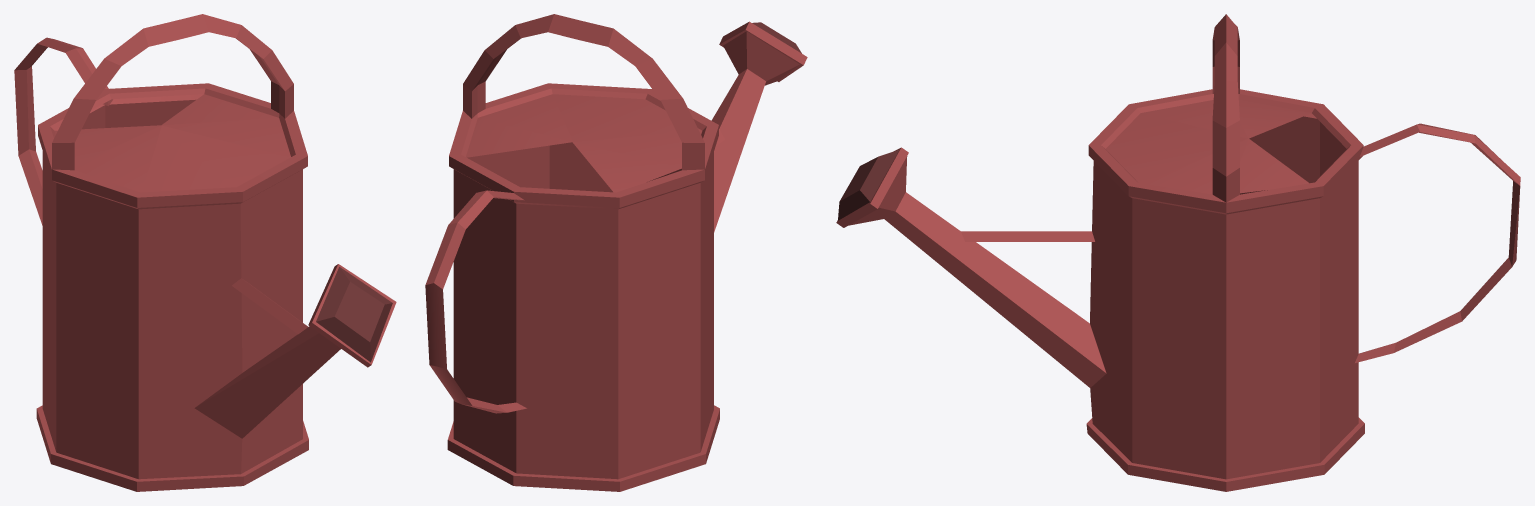
Rendered from Watering_can.fbx.
The picture shows the model from 3 angles, left to right: view 1: azimuth 30°, elevation 25°; view 2: azimuth 150°, elevation 25°; view 3: azimuth 270°, elevation 25°; orthographic projection.
Parts seen in each view (by area): view 1: pCylinder1; view 2: pCylinder1; view 3: pCylinder1.
Part boxes in pixels (left/top/right/bottom): pCylinder1: left=14, top=14, right=396, bottom=491; pCylinder1: left=425, top=14, right=807, bottom=491; pCylinder1: left=836, top=14, right=1520, bottom=491.
Bounding box in the file's own units: 0.2222 × 0.3593 × 0.5499.
